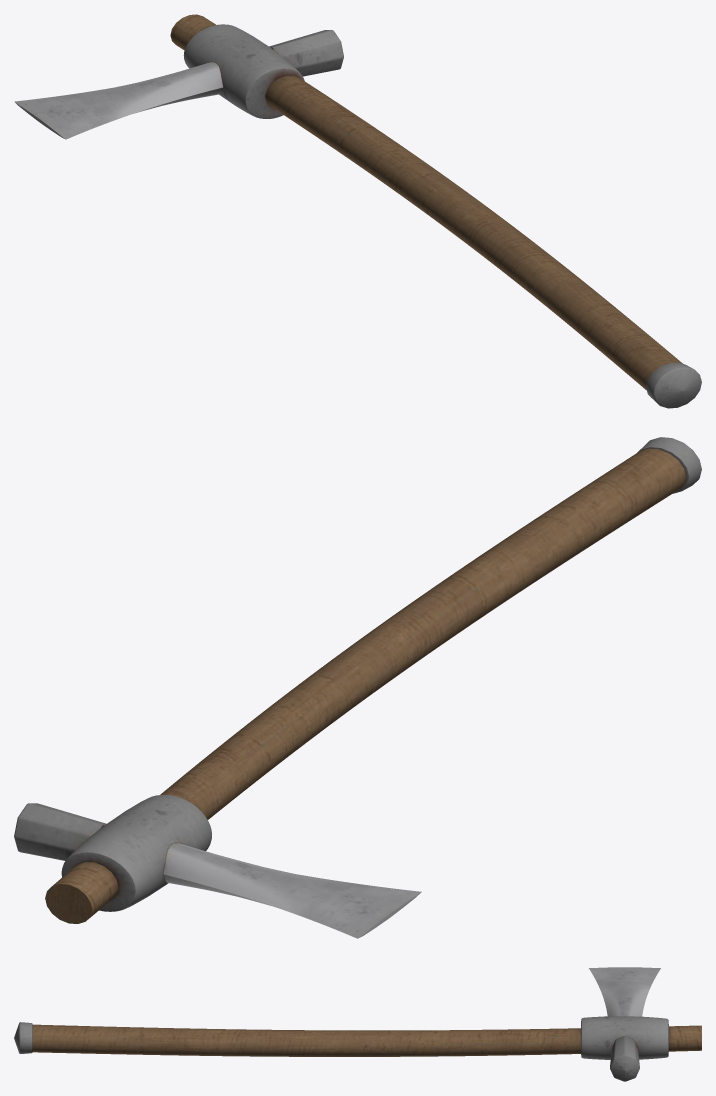
File: alan_axe.glb
3 renders of one model, top to bottom at view 1: azimuth 30°, elevation 25°; view 2: azimuth 150°, elevation 25°; view 3: azimuth 270°, elevation 25°, orthographic. The views are drawn at different scales.
Visible parts, largest first — view 1: alan_axe; view 2: alan_axe; view 3: alan_axe.
Part boxes in pixels (x1,y1,x2,y2): alan_axe: [14, 14, 701, 408]; alan_axe: [14, 437, 701, 938]; alan_axe: [14, 967, 701, 1081].
Size of the model in its own units: 0.22 by 0.0378 by 0.625.
1 material, 1 textured.
